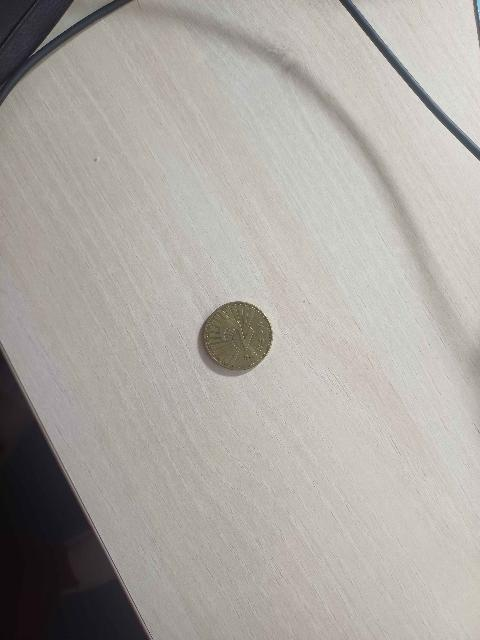2_coin: (205, 302, 272, 370)
